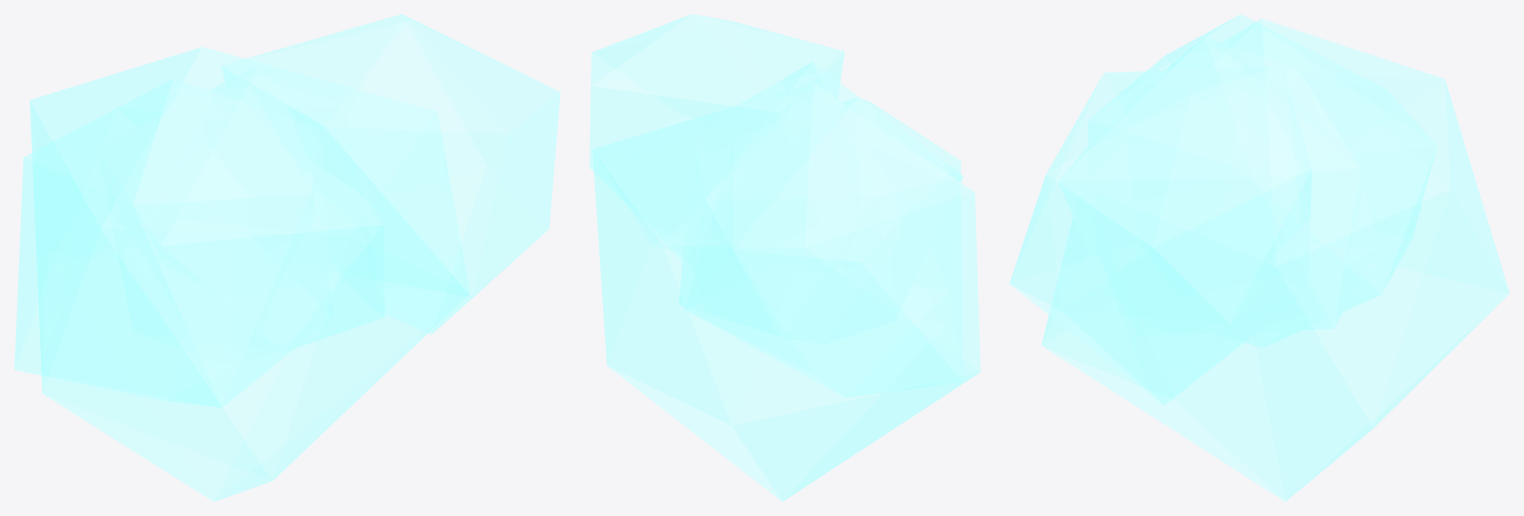
The model's file is GH_Dressing_Bush.fbx.
3 renders of one model, left to right at view 1: azimuth 30°, elevation 25°; view 2: azimuth 150°, elevation 25°; view 3: azimuth 270°, elevation 25°, orthographic. The views are drawn at different scales.
Visible parts, largest first — view 1: SM_Dressing_Bush; view 2: SM_Dressing_Bush; view 3: SM_Dressing_Bush.
Boxes of the visible parts, left/top/right/bottom form: SM_Dressing_Bush: left=14, top=14, right=560, bottom=501; SM_Dressing_Bush: left=589, top=14, right=980, bottom=501; SM_Dressing_Bush: left=1009, top=14, right=1509, bottom=501.
Size of the model in its own units: 0.7572 by 0.7185 by 0.6765.
